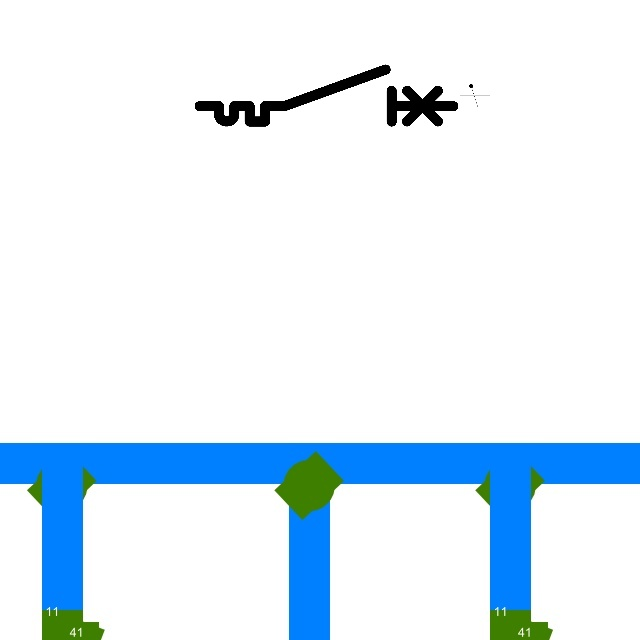interruptor_termomagnetico: (193, 63, 459, 128)
